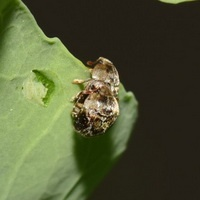insect: (71, 57, 119, 136)
